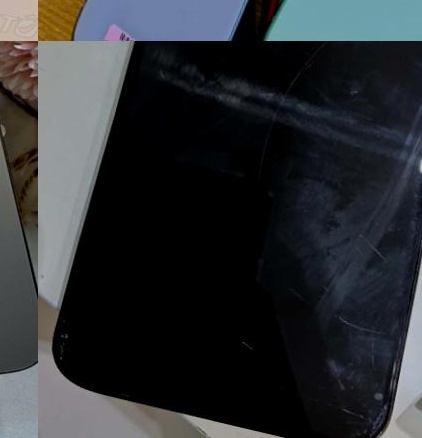scratch: (308, 394, 386, 427), (246, 118, 278, 192), (349, 227, 395, 264), (336, 311, 392, 340), (321, 354, 359, 393), (44, 315, 74, 363), (281, 53, 310, 84), (284, 279, 311, 305), (274, 379, 307, 399), (270, 86, 290, 113), (311, 41, 337, 60), (351, 423, 383, 438), (314, 282, 334, 300), (368, 389, 389, 404), (237, 336, 255, 352), (118, 390, 135, 402)
